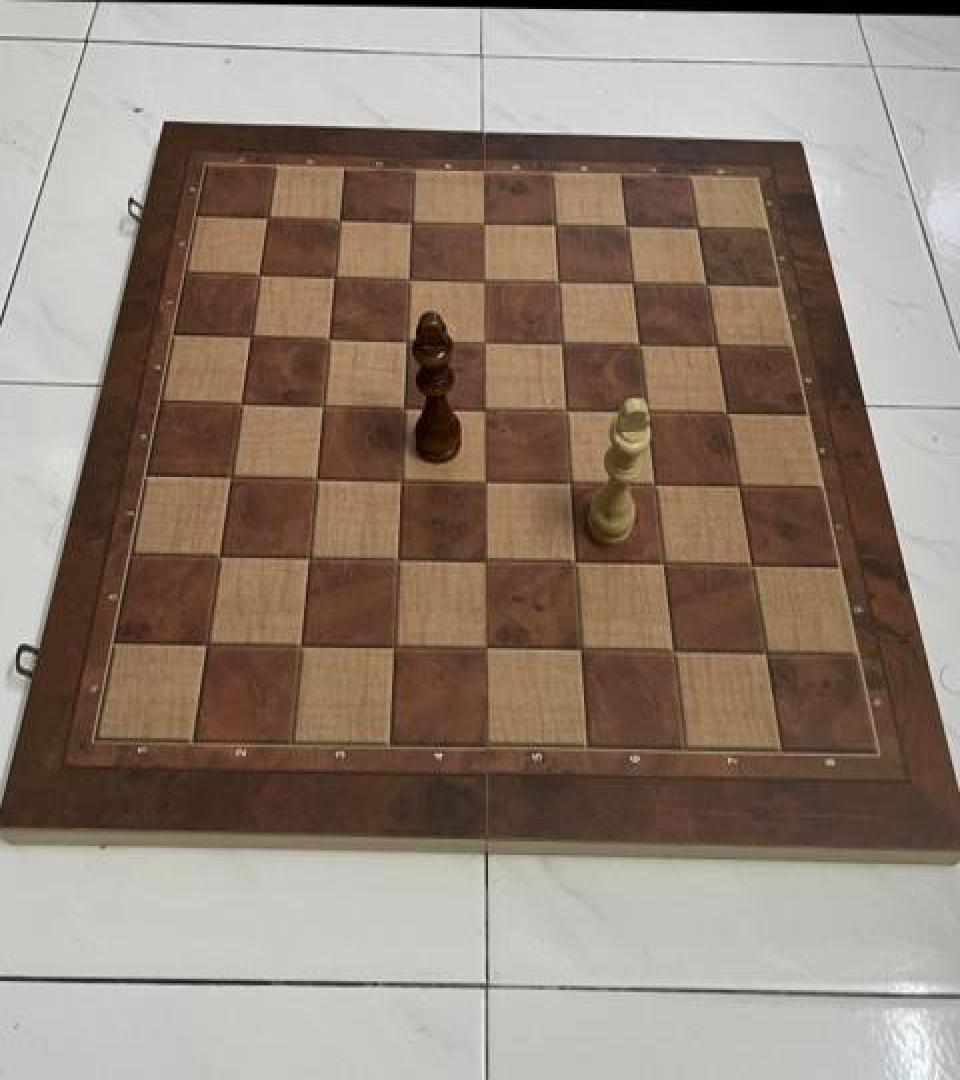xcorner: (648, 544, 680, 581), (560, 543, 592, 580), (286, 625, 318, 662), (192, 624, 224, 661), (681, 212, 713, 248), (610, 209, 642, 245), (538, 208, 570, 244), (466, 206, 498, 242), (395, 204, 427, 240), (322, 202, 354, 238), (250, 200, 282, 236), (690, 268, 722, 304), (542, 264, 574, 300), (467, 262, 499, 298), (393, 261, 425, 297), (317, 259, 349, 295), (242, 258, 274, 294), (623, 328, 655, 364), (546, 325, 578, 361), (468, 324, 500, 360), (390, 322, 422, 358), (312, 320, 344, 356), (234, 318, 266, 354), (711, 395, 743, 431), (631, 394, 663, 430), (550, 392, 582, 428), (388, 388, 420, 424), (307, 387, 339, 423), (225, 385, 257, 421), (723, 468, 755, 504), (639, 466, 671, 502), (555, 464, 587, 500), (470, 462, 502, 498), (385, 461, 417, 497), (300, 459, 332, 495), (215, 458, 247, 494), (735, 547, 767, 583), (471, 542, 503, 578), (383, 540, 415, 576), (294, 539, 326, 575), (204, 538, 236, 574), (749, 634, 781, 670), (657, 631, 689, 667), (565, 630, 597, 666), (473, 629, 505, 665), (380, 628, 412, 664), (616, 267, 648, 302), (700, 329, 732, 364), (469, 391, 501, 426)
